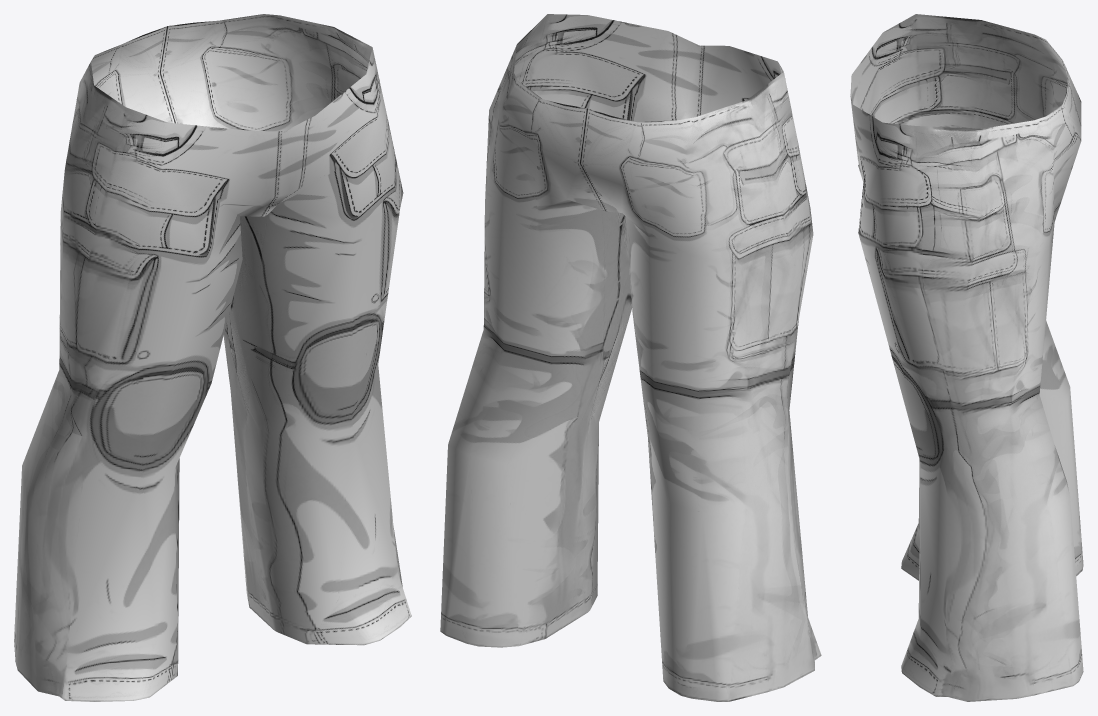
Rendered from FlakPants.glb.
The picture shows the model from 3 angles, left to right: view 1: azimuth 30°, elevation 25°; view 2: azimuth 150°, elevation 25°; view 3: azimuth 270°, elevation 25°; orthographic projection. The views are drawn at different scales.
Parts seen in each view (by area): view 1: FlakPants; view 2: FlakPants; view 3: FlakPants.
Part boxes in pixels (bbox=[...]): FlakPants: bbox=[14, 14, 411, 701]; FlakPants: bbox=[440, 14, 821, 701]; FlakPants: bbox=[850, 14, 1083, 701].
Bounding box in the file's own units: 7.78 × 11.98 × 4.6.
Materials: 1 (1 with a texture image).
